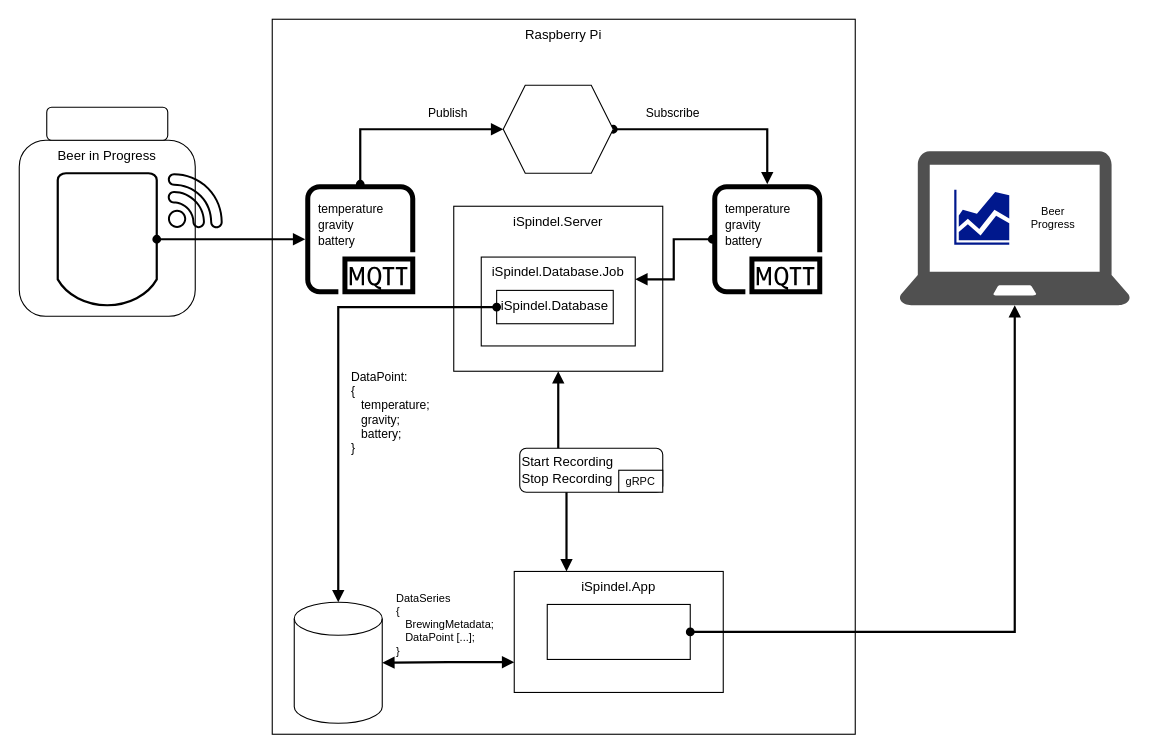
Image size: 1150x754. Some labels were removed from this diagram. Here are the shapes that lost their labels. From the top down, the centre of each, then its label:
pixel 557 128: Mqtt Broker
pixel 106 239: iSpindel Hardware Device
pixel 618 631: iSpindel.ClientApp (Angular Frontend)
pixel 337 662: Postgres Database
